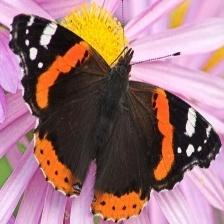butterfly: (9, 14, 222, 224)
